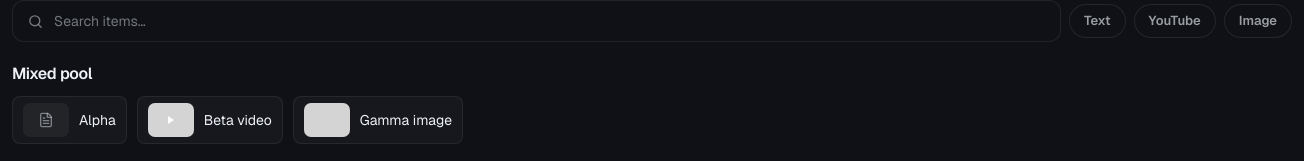
Test: PackContentsPreview › search and type filter › shows a no-matches message when filters exclude every item in a non-empty pool
This screenshot has width=1304, height=161.
In the search field named "Search pack items": x=550, y=21 [54,11,1046,31], type "nonexistent-title"
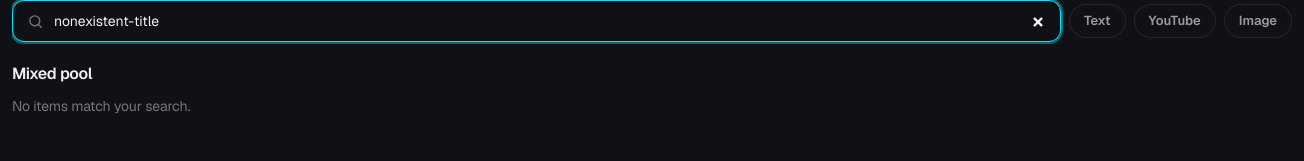
Check: the text "No items match your search." is shown, box [12,97,190,115]
